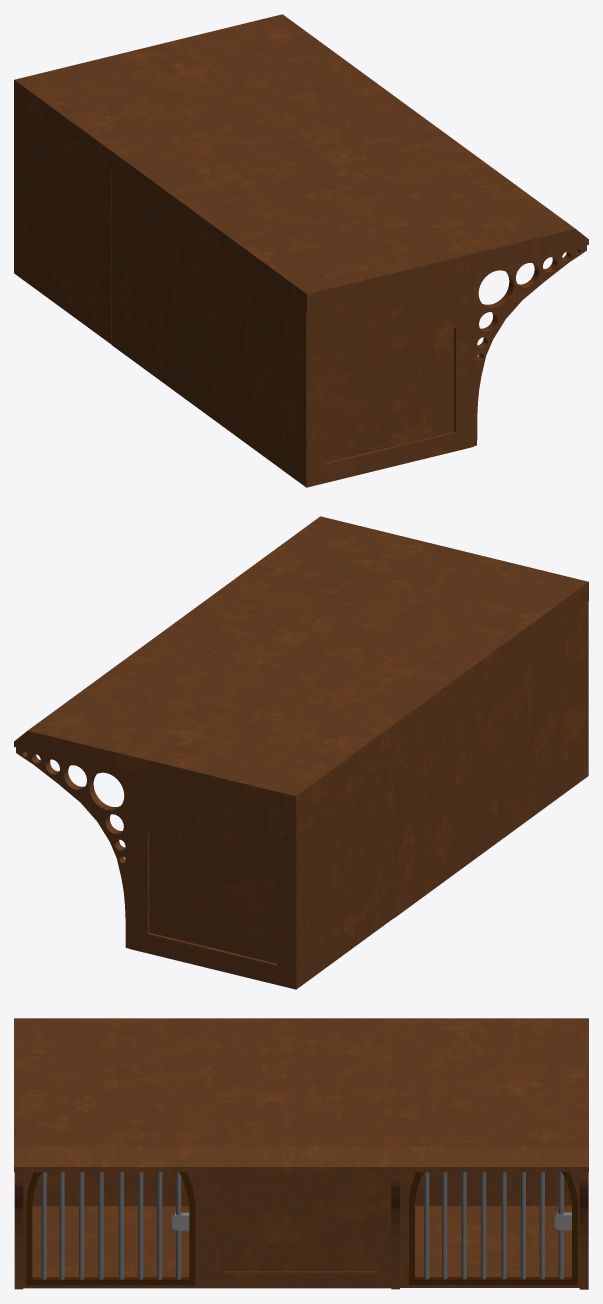
Rendered from 1 small cage 1 wide cage.glb.
The picture shows the model from 3 angles, top to bottom: view 1: azimuth 30°, elevation 25°; view 2: azimuth 150°, elevation 25°; view 3: azimuth 270°, elevation 25°; orthographic projection.
Visible parts, largest first — view 1: Cube.091, Cube.088, Cube.081, Cube.073; view 2: Cube.091, Cube.081, Cube.088, Cube.092; view 3: Cube.091, Cube.088, Cube.081, Cube.090, Cube.083, Cube.092, Cube.073, Cube.106, Cylinder.150, Cylinder.146, Cylinder.147, Cylinder.148 (+12 smaller).
Part boxes in pixels (x1=…): Cube.091: x1=14, y1=14, x2=588, y2=313; Cube.088: x1=111, y1=170, x2=473, y2=487; Cube.081: x1=14, y1=98, x2=111, y2=344; Cube.073: x1=473, y1=245, x2=586, y2=445; Cube.091: x1=14, y1=516, x2=588, y2=815; Cube.081: x1=129, y1=743, x2=393, y2=989; Cube.088: x1=393, y1=601, x2=588, y2=918; Cube.092: x1=16, y1=747, x2=128, y2=948; Cube.091: x1=14, y1=1018, x2=588, y2=1172; Cube.088: x1=23, y1=1172, x2=391, y2=1288; Cube.081: x1=400, y1=1172, x2=579, y2=1287; Cube.090: x1=26, y1=1172, x2=195, y2=1285; Cube.083: x1=409, y1=1172, x2=577, y2=1284; Cube.092: x1=579, y1=1172, x2=588, y2=1289; Cube.073: x1=14, y1=1172, x2=23, y2=1289; Cube.106: x1=391, y1=1172, x2=399, y2=1289; Cylinder.150: x1=78, y1=1172, x2=84, y2=1279; Cylinder.146: x1=157, y1=1172, x2=162, y2=1279; Cylinder.147: x1=138, y1=1172, x2=143, y2=1279; Cylinder.148: x1=118, y1=1172, x2=123, y2=1279.
Bounding box in the file's own units: 10.74 × 7.05 × 19.32.
4 materials, 4 textured.
